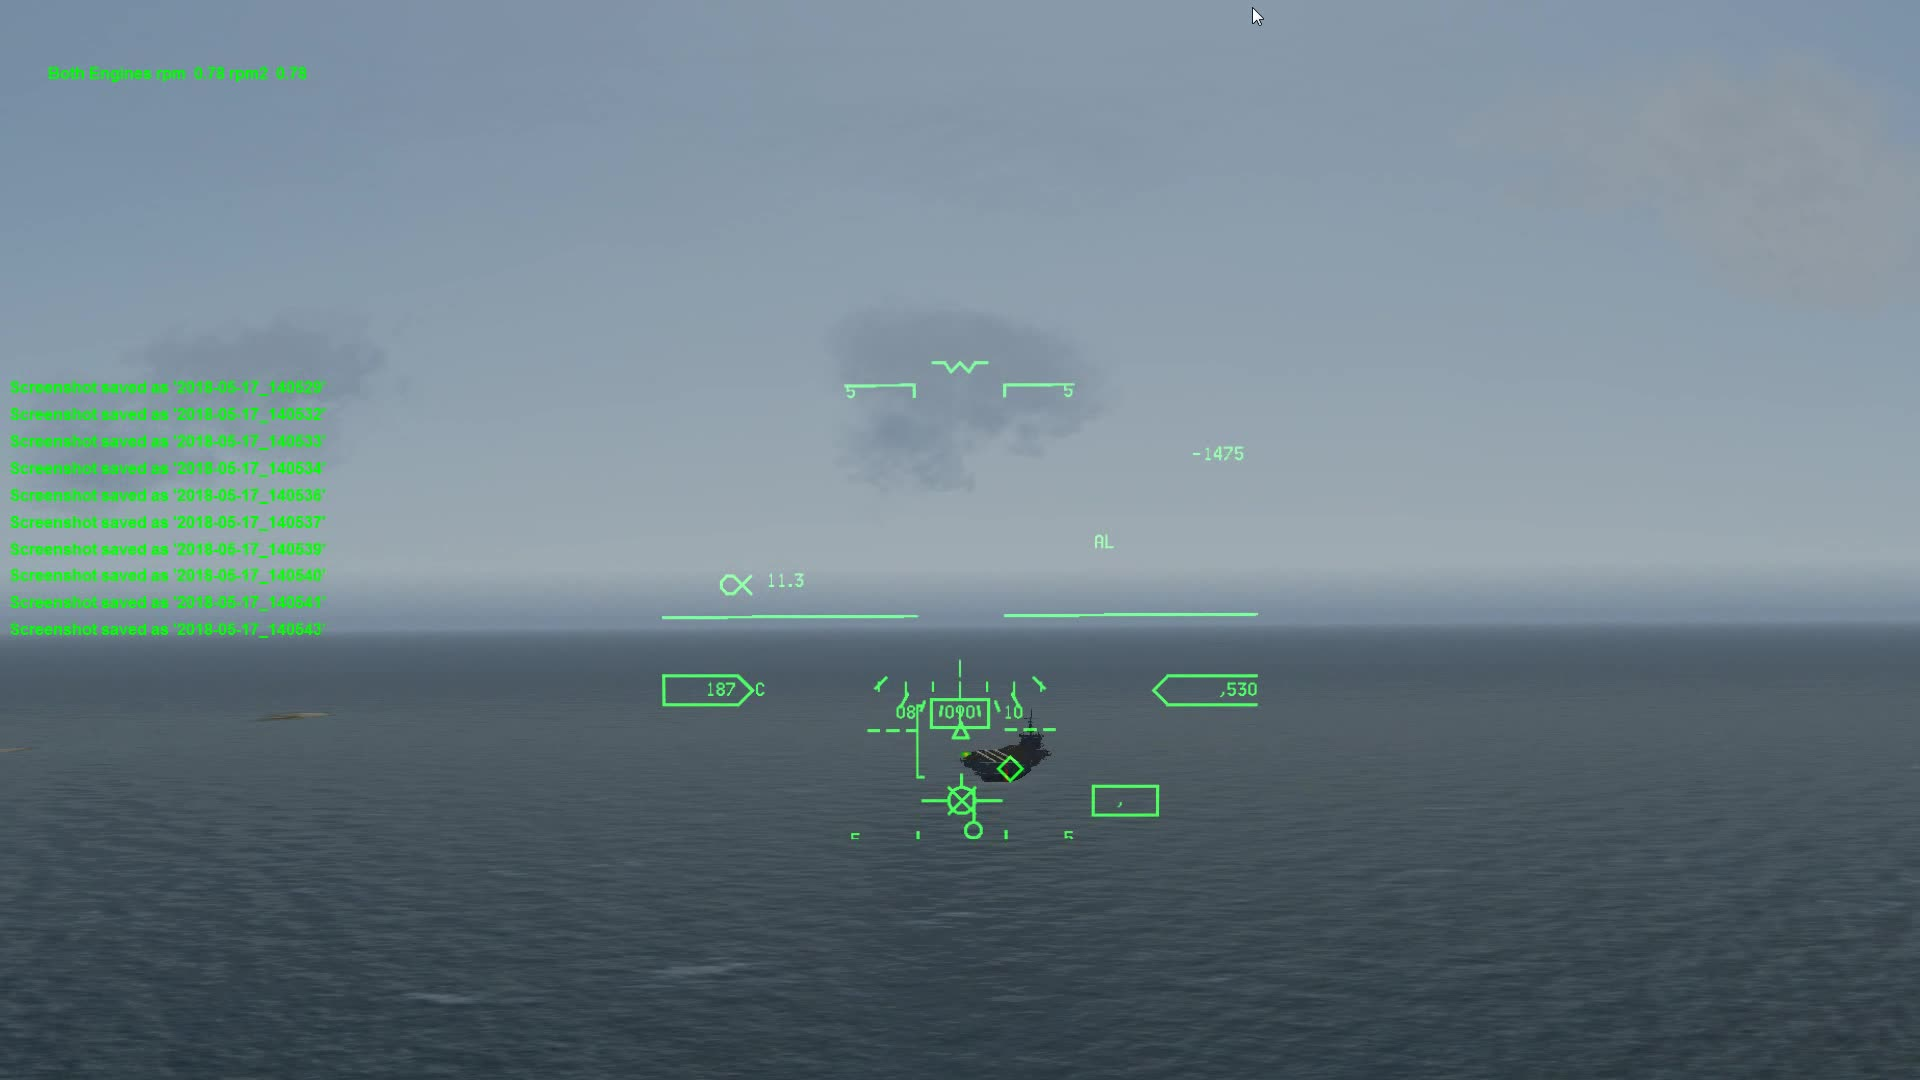speed vector: (932, 767, 1005, 816)
